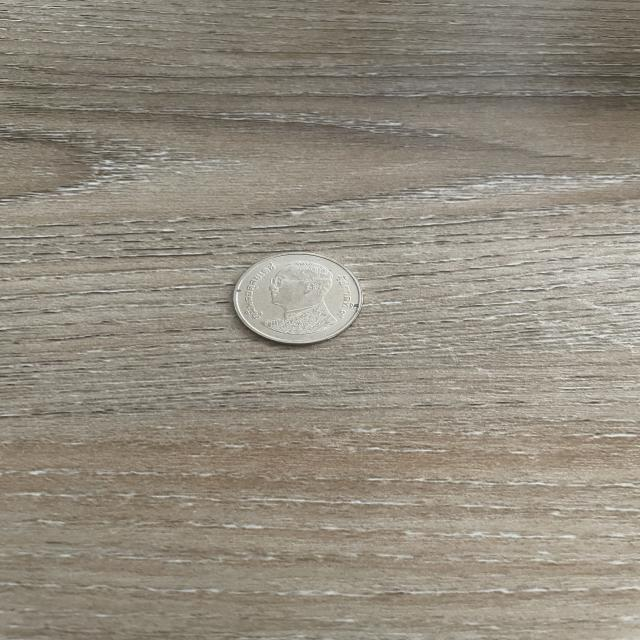1 Bath: (226, 248, 373, 356)
